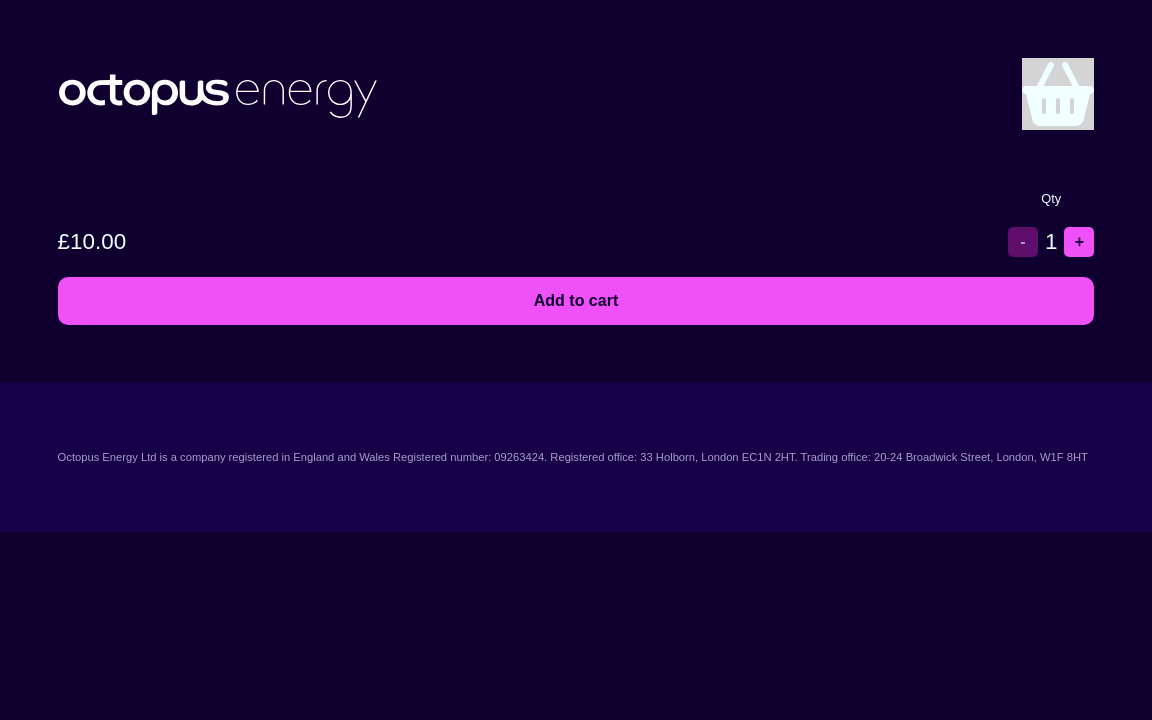
QuantityControls Component › should increment quantity when the "+" button is clicked
The width and height of the screenshot is (1152, 720).
What coordinates should you click on to do the following:
click the button "+"
I would click on:
 (1079, 242)
Its box is [1064, 227, 1094, 257].
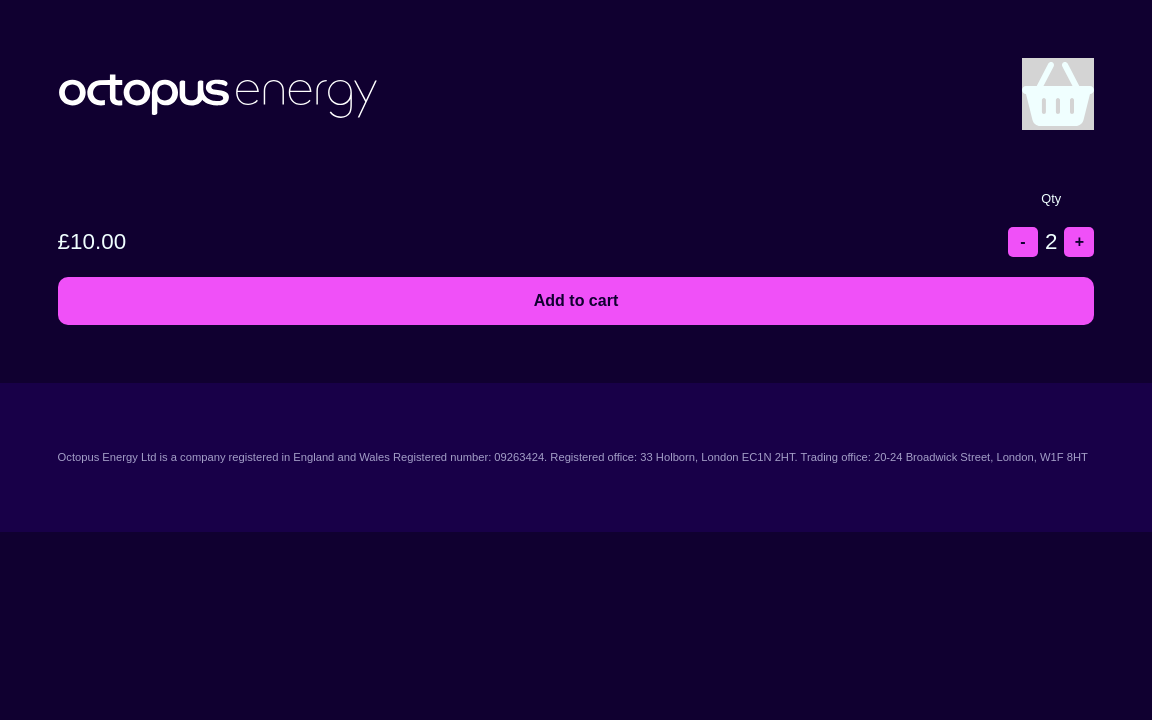
Result: the text titled "Current quantity" reads "2" at [1045, 229, 1058, 254]
